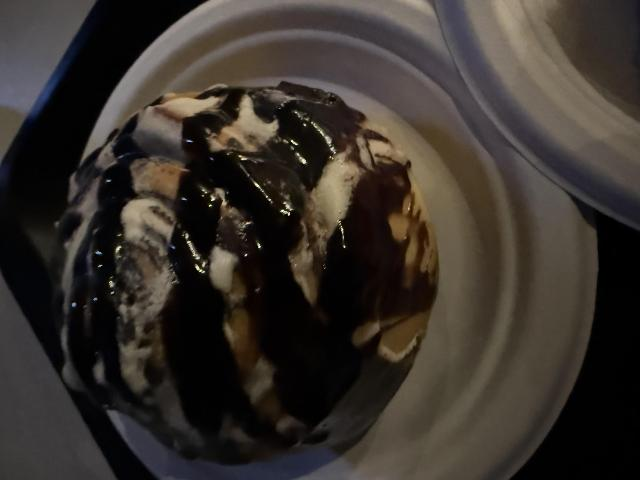Organik: (37, 57, 446, 468)
